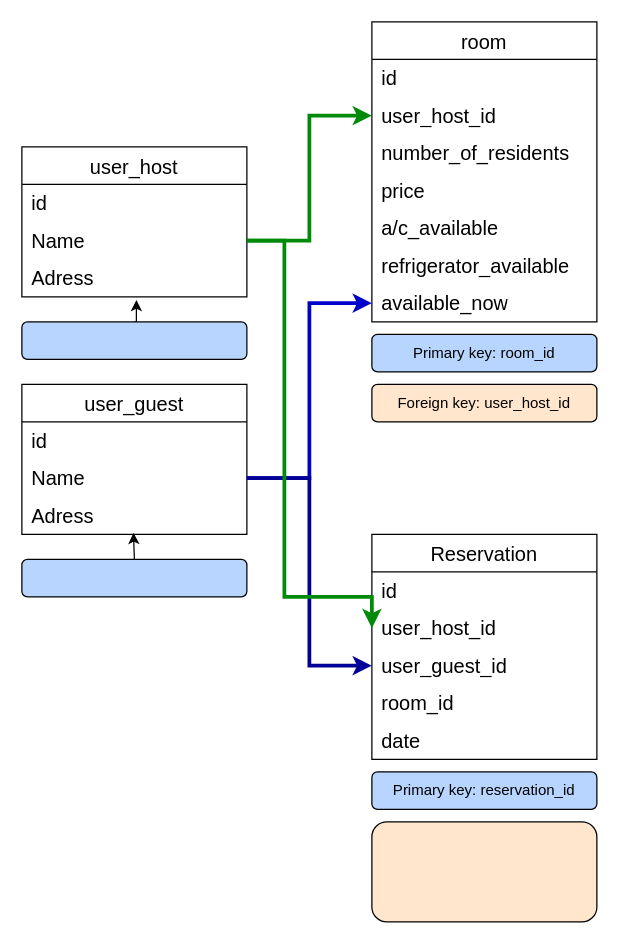
Image size: 619x944. Some labels were removed from this diagram. The centre of each missing label's shape, as x and y in pixels:
Foreign keys: user_host_id user_key room_id: the point at 484,871
Primary key: user_guest_id: the point at 134,577
Primary key: user_host_id: the point at 134,340
